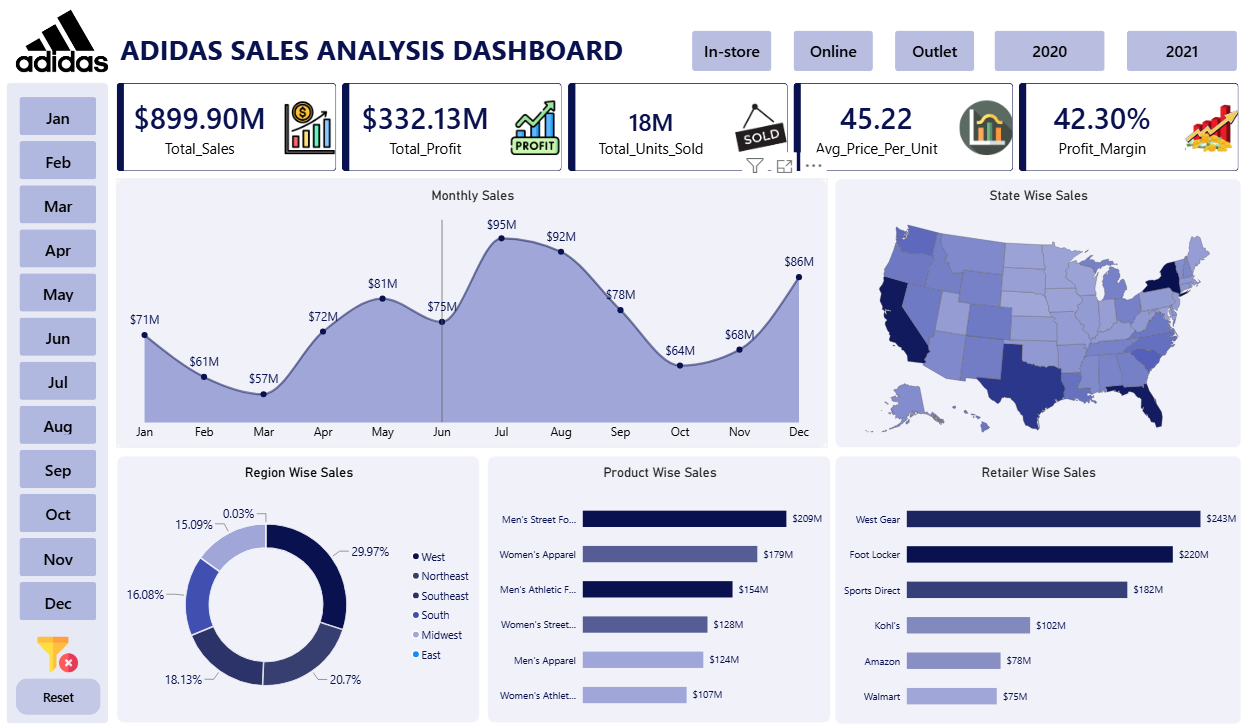

What the dashboard file says about the page in this screenshot:
{"tool":"powerbi","page":{"name":"Page 1","canvas":[1700,1000],"ordinal":0},"visuals":[{"type":"cardVisual","fields":{"Data":["Data Sales Adidas.Total_Sales","Data Sales Adidas.Total_Profit","Data Sales Adidas.Total_Units_Sold","Data Sales Adidas.Avg_Price_Per_Unit","Data Sales Adidas.Profit_Margin"]},"box":[158.6,112.9,1530,120],"z":0},{"type":"image","box":[21.4,2.9,125.7,105.7],"z":1000},{"type":"textbox","box":[158.6,37.1,705.7,65.7],"z":2000},{"type":"shape","box":[8.6,112.9,138.6,871.4],"z":3000},{"type":"areaChart","title":"Monthly Sales","fields":{"Y":["Data Sales Adidas.Total_Sales"],"Category":["Data Sales Adidas.Month"]},"box":[158.6,242.9,967.1,367.1],"z":4000},{"type":"shapeMap","title":"State Wise Sales","fields":{"Category":["Data Sales Adidas.State"],"Value":["Data Sales Adidas.Total_Sales"]},"box":[1135.7,242.9,552.9,367.1],"z":5000},{"type":"donutChart","title":"Region Wise Sales","fields":{"Category":["Data Sales Adidas.Region"],"Y":["Data Sales Adidas.Total_Sales"]},"box":[158.6,620,494.3,364.3],"z":6000},{"type":"clusteredBarChart","title":"Product Wise Sales","fields":{"Category":["Data Sales Adidas.Product"],"Y":["Data Sales Adidas.Total_Sales"]},"box":[662.9,620,468,364],"z":7000},{"type":"clusteredBarChart","title":"Retailer Wise Sales","fields":{"Y":["Data Sales Adidas.Total_Sales"],"Category":["Data Sales Adidas.Retailer"]},"box":[1135.7,620,552.9,365.7],"z":8000},{"type":"advancedSlicerVisual","fields":{"Values":["Data Sales Adidas.Sales Method"]},"box":[925.7,25.7,418.6,87.1],"z":9000},{"type":"advancedSlicerVisual","fields":{"Values":["Data Sales Adidas.Invoice Date.Variation.Date Hierarchy.Year"]},"box":[1337.1,25.7,362.9,87.1],"z":10000},{"type":"advancedSlicerVisual","fields":{"Values":["Data Sales Adidas.Month"]},"box":[21.4,127.1,115.7,724.3],"z":11000},{"type":"image","box":[44.3,862.9,68.6,55.7],"z":12000},{"type":"actionButton","box":[21.4,922.9,115.7,50],"z":13000}]}

Visuals, with their boxes in screenshot pixels (x1, y1, x2, y2), scaled from the page's 1700x1000 canvas onto the 1247x725 screenshot:
cardVisual - Data Sales Adidas.Total_Sales x Data Sales Adidas.Total_Profit: <bbox>116, 82, 1239, 169</bbox>
image: <bbox>16, 2, 108, 79</bbox>
textbox: <bbox>116, 27, 634, 75</bbox>
shape: <bbox>6, 82, 108, 714</bbox>
"Monthly Sales" areaChart: <bbox>116, 176, 826, 442</bbox>
"State Wise Sales" shapeMap: <bbox>833, 176, 1239, 442</bbox>
"Region Wise Sales" donutChart: <bbox>116, 450, 479, 714</bbox>
"Product Wise Sales" clusteredBarChart: <bbox>486, 450, 830, 713</bbox>
"Retailer Wise Sales" clusteredBarChart: <bbox>833, 450, 1239, 715</bbox>
advancedSlicerVisual - Data Sales Adidas.Sales Method: <bbox>679, 19, 986, 82</bbox>
advancedSlicerVisual - Data Sales Adidas.Invoice Date.Variation.Date Hierarchy.Year: <bbox>981, 19, 1246, 82</bbox>
advancedSlicerVisual - Data Sales Adidas.Month: <bbox>16, 92, 101, 617</bbox>
image: <bbox>32, 626, 83, 666</bbox>
actionButton: <bbox>16, 669, 101, 705</bbox>
